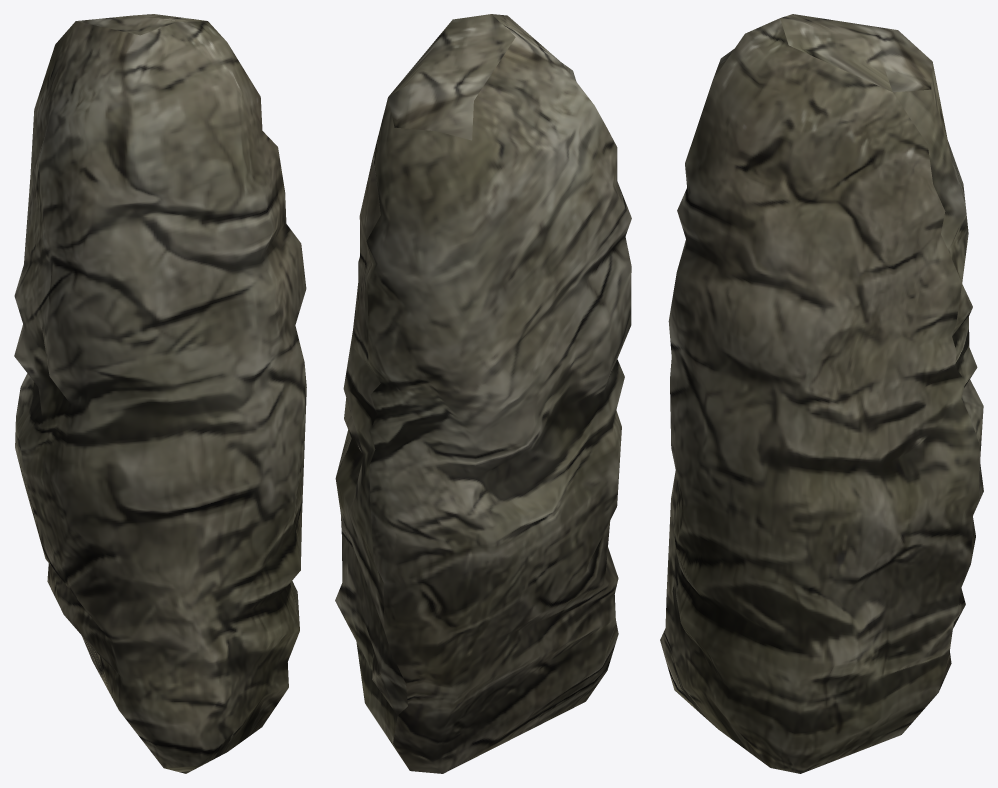
Rendered from MEP_Cliff_08.fbx.
The picture shows the model from 3 angles, left to right: view 1: azimuth 30°, elevation 25°; view 2: azimuth 150°, elevation 25°; view 3: azimuth 270°, elevation 25°; orthographic projection.
Parts seen in each view (by area): view 1: MEP_Desert_Cliff_08; view 2: MEP_Desert_Cliff_08; view 3: MEP_Desert_Cliff_08.
Part boxes in pixels (left/top/right/bottom): MEP_Desert_Cliff_08: left=14, top=14, right=306, bottom=773; MEP_Desert_Cliff_08: left=335, top=14, right=631, bottom=773; MEP_Desert_Cliff_08: left=660, top=14, right=983, bottom=773.
Size of what is drawn, in the model's own units: 180 by 495 by 201.
Materials: 1 (1 with a texture image).
